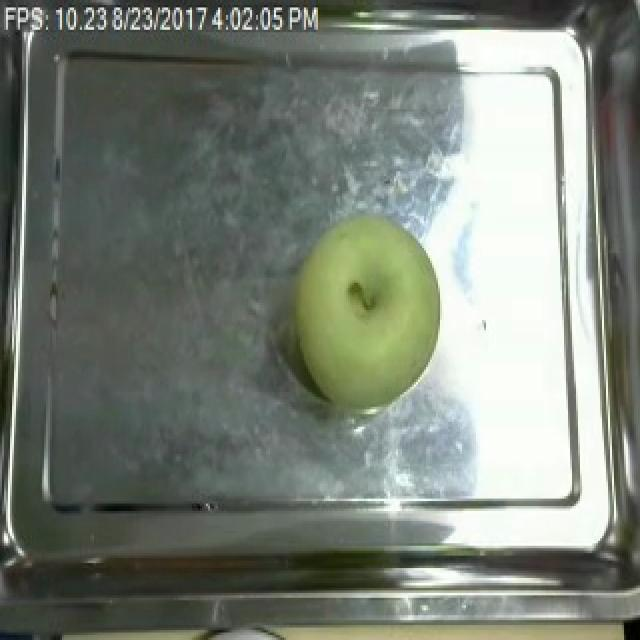50-_ripeness: (293, 209, 457, 418)
